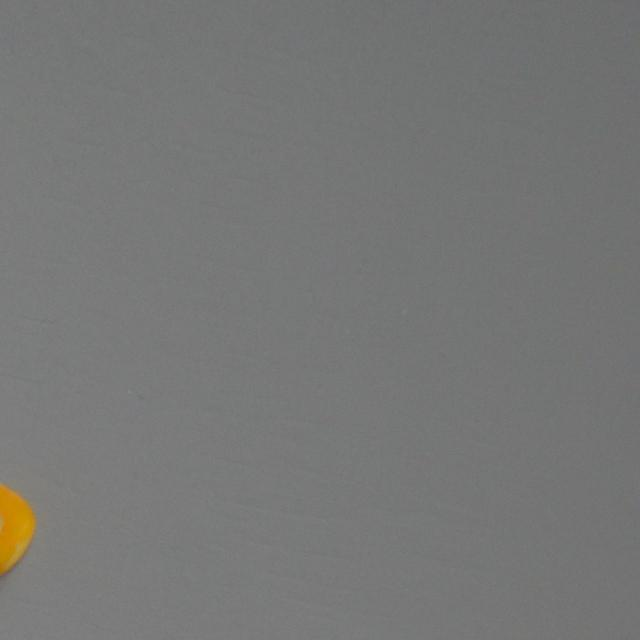dañado: (0, 480, 38, 582)
